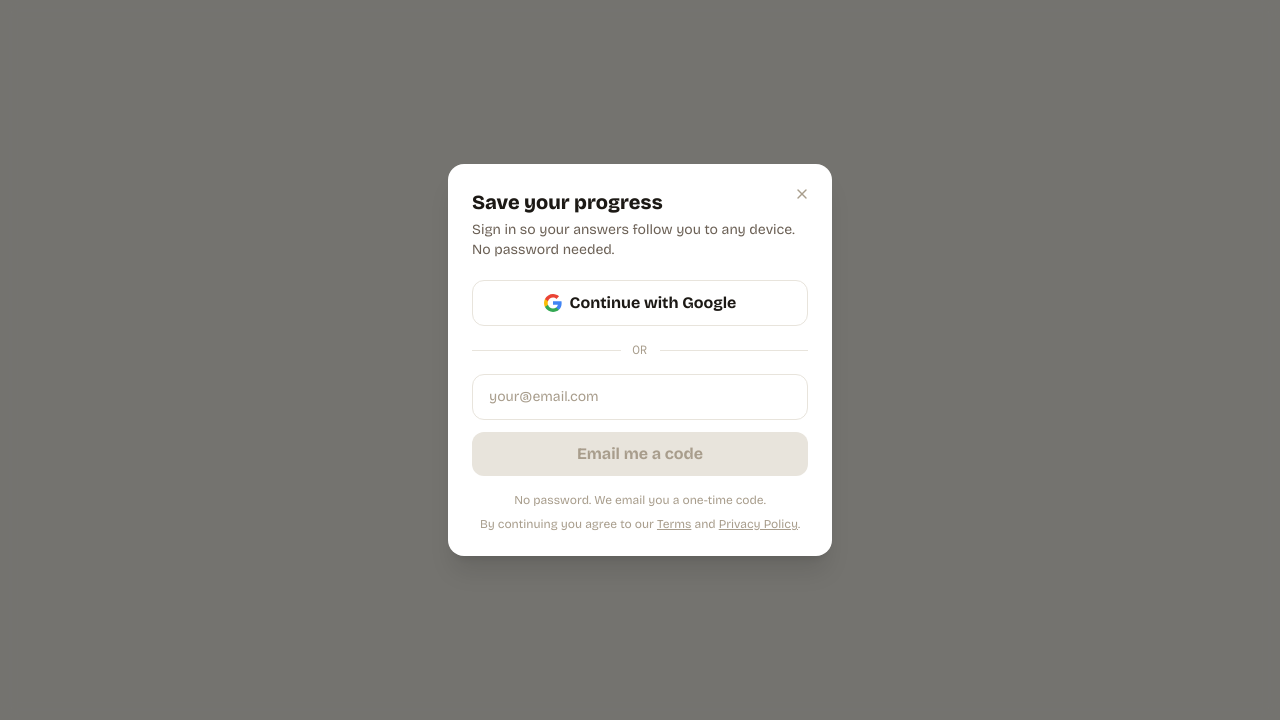
Test: AuthModal sign-in methods › asks for the emailed code instead of waiting on a link click
Type "rider@example.com" into the field with placeholder "your@email.com".
click(640, 397); type("rider@example.com")  # box 472,374 -> 808,420
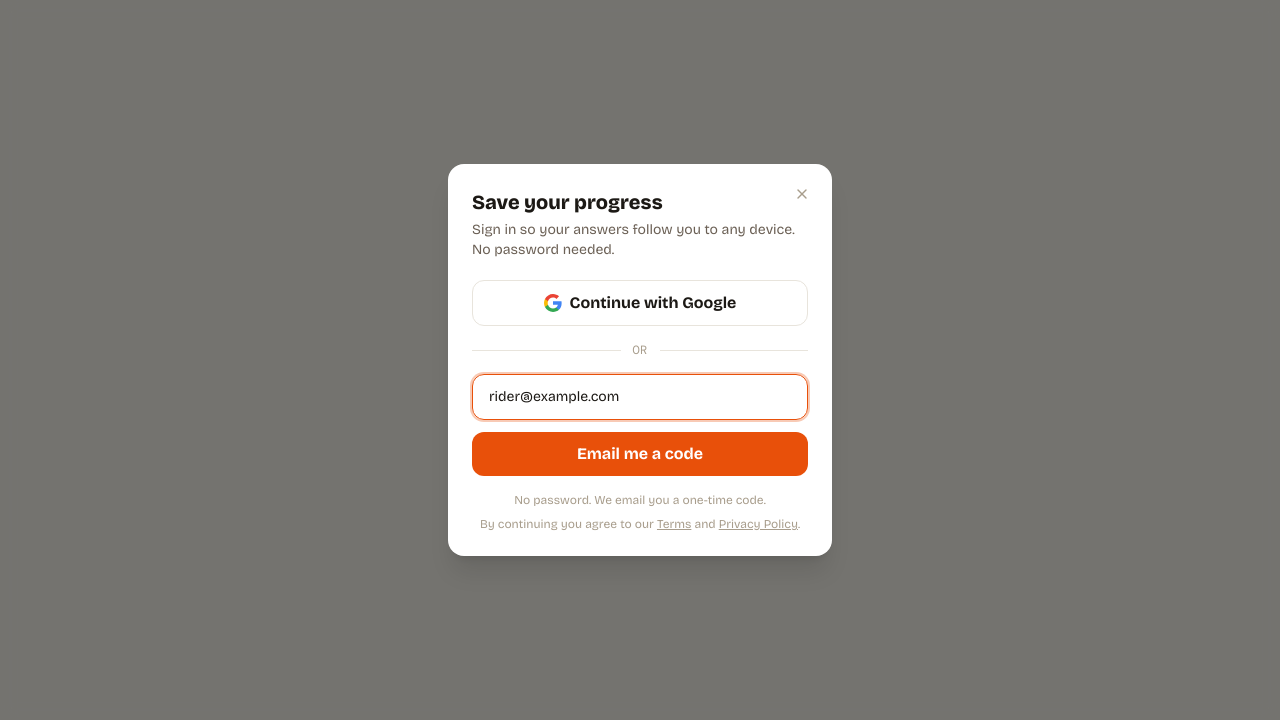
Click the button "Email me a code".
click(640, 454)  # box 472,432 -> 808,476
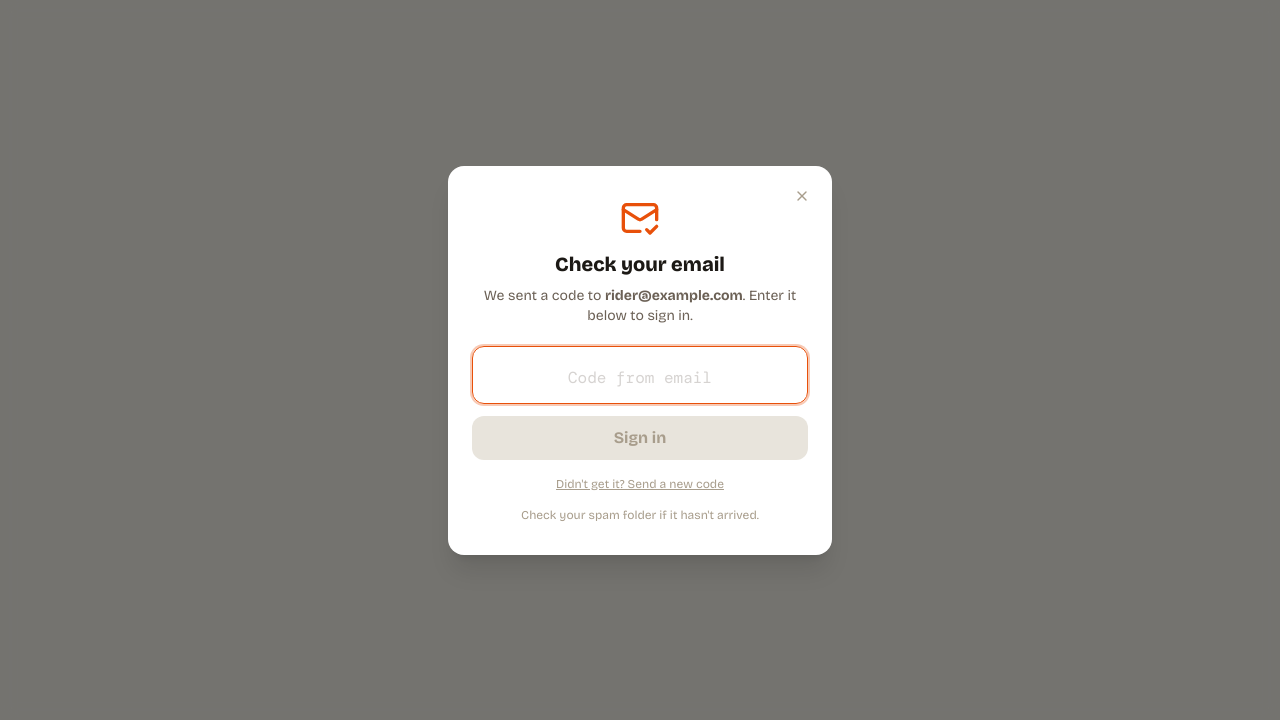
Expected: the field named "sign-in code" is shown, 472,346 -> 808,404
